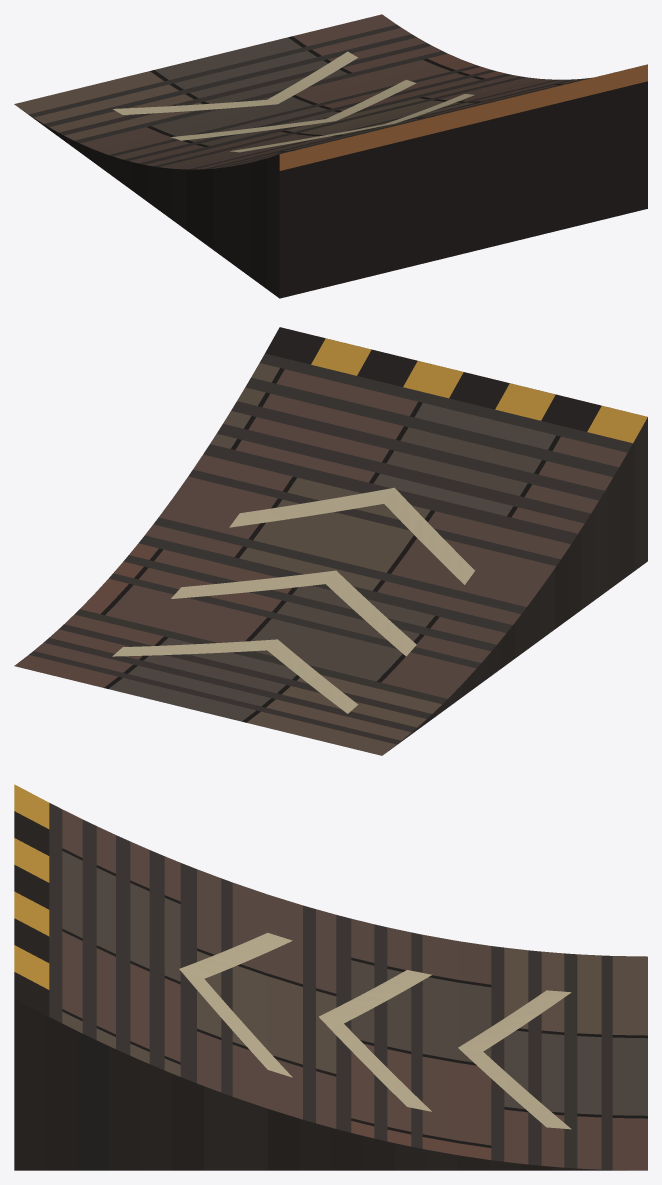
File: plate_kicker_10x3x8.glb
The picture shows the model from 3 angles, top to bottom: view 1: azimuth 30°, elevation 25°; view 2: azimuth 150°, elevation 25°; view 3: azimuth 270°, elevation 25°; orthographic projection. The views are drawn at different scales.
Parts seen in each view (by area): view 1: plate_kicker_10x3x8, plate_kicker_10x3x8-col; view 2: plate_kicker_10x3x8, plate_kicker_10x3x8-col; view 3: plate_kicker_10x3x8, plate_kicker_10x3x8-col.
Part boxes in pixels (x1,y1,x2,y2): plate_kicker_10x3x8: [14, 14, 647, 298]; plate_kicker_10x3x8-col: [29, 24, 589, 169]; plate_kicker_10x3x8: [14, 327, 647, 755]; plate_kicker_10x3x8-col: [29, 353, 632, 744]; plate_kicker_10x3x8: [14, 784, 647, 1170]; plate_kicker_10x3x8-col: [33, 803, 629, 1170].
Bounding box in the file's own units: 8 × 3 × 10.
